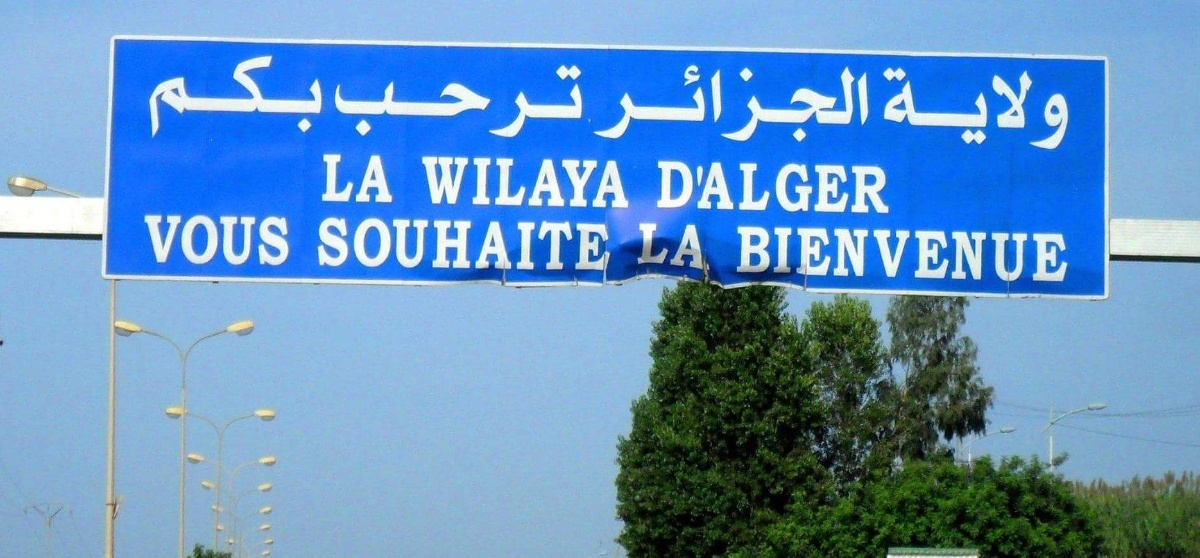text: (897, 65, 912, 151), (913, 65, 928, 151), (929, 65, 944, 151), (945, 65, 960, 151), (961, 65, 976, 151), (977, 65, 992, 151), (993, 65, 1008, 151), (1009, 65, 1024, 151), (1025, 65, 1040, 151), (1041, 65, 1056, 151), (161, 54, 176, 139), (177, 54, 192, 139), (193, 54, 208, 139), (209, 54, 224, 139), (225, 54, 240, 139), (241, 54, 256, 139), (257, 54, 272, 139), (273, 54, 288, 139), (289, 54, 304, 139), (305, 54, 320, 139), (882, 65, 896, 151), (593, 67, 608, 144), (609, 67, 624, 144), (625, 67, 640, 144), (641, 67, 656, 144), (657, 67, 672, 144), (673, 67, 688, 144), (689, 67, 704, 144), (705, 67, 720, 144), (721, 67, 736, 144), (737, 67, 752, 144), (753, 67, 768, 144), (769, 67, 784, 144), (785, 67, 800, 144), (801, 67, 816, 144), (817, 67, 832, 144), (833, 67, 848, 144), (849, 67, 864, 144), (337, 64, 352, 139), (353, 64, 368, 139), (369, 64, 384, 139), (385, 64, 400, 139), (401, 64, 416, 139), (417, 64, 432, 139), (433, 64, 448, 139), (449, 64, 464, 139), (465, 64, 480, 139), (481, 64, 496, 139), (497, 64, 512, 139), (513, 64, 528, 139), (529, 64, 544, 139), (545, 64, 560, 139), (561, 64, 576, 139), (1057, 65, 1070, 151), (149, 54, 160, 139), (737, 227, 752, 285), (753, 227, 768, 285), (769, 227, 784, 285), (785, 227, 800, 285), (801, 227, 816, 285), (817, 227, 832, 285), (833, 227, 848, 285), (849, 227, 864, 285), (865, 227, 880, 285), (881, 227, 896, 285), (897, 227, 912, 285), (913, 227, 928, 285), (929, 227, 944, 285), (945, 227, 960, 285), (961, 227, 976, 285), (977, 227, 992, 285), (993, 227, 1008, 285), (1009, 227, 1024, 285), (1025, 227, 1040, 285), (1041, 227, 1056, 285), (321, 218, 336, 275), (337, 218, 352, 275), (353, 218, 368, 275), (369, 218, 384, 275), (385, 218, 400, 275), (401, 218, 416, 275), (417, 218, 432, 275), (433, 218, 448, 275), (449, 218, 464, 275), (465, 218, 480, 275), (481, 218, 496, 275), (497, 218, 512, 275), (513, 218, 528, 275), (529, 218, 544, 275), (545, 218, 560, 275), (561, 218, 576, 275), (577, 218, 592, 275), (593, 218, 608, 275), (657, 160, 672, 216), (673, 160, 688, 216), (689, 160, 704, 216), (705, 160, 720, 216), (721, 160, 736, 216), (737, 160, 752, 216), (753, 160, 768, 216), (769, 160, 784, 216), (785, 160, 800, 216), (801, 160, 816, 216), (817, 160, 832, 216), (833, 160, 848, 216), (849, 160, 864, 216), (865, 160, 880, 216), (433, 156, 448, 210), (449, 156, 464, 210), (465, 156, 480, 210), (481, 156, 496, 210), (497, 156, 512, 210), (513, 156, 528, 210), (529, 156, 544, 210), (545, 156, 560, 210), (561, 156, 576, 210), (577, 156, 592, 210), (593, 156, 608, 210), (609, 156, 624, 210), (337, 154, 352, 205), (353, 154, 368, 205), (369, 154, 384, 205), (145, 215, 160, 266), (161, 215, 176, 266), (177, 215, 192, 266), (193, 215, 208, 266), (209, 215, 224, 266), (225, 215, 240, 266), (241, 215, 256, 266), (257, 215, 272, 266), (273, 215, 288, 266), (641, 223, 656, 272), (657, 223, 672, 272), (673, 223, 688, 272), (689, 223, 704, 272), (322, 154, 336, 205), (1057, 227, 1068, 285), (881, 160, 891, 216), (422, 156, 432, 210), (577, 64, 584, 139), (385, 154, 395, 205), (705, 223, 712, 272), (865, 67, 869, 144), (625, 156, 630, 210), (289, 215, 294, 266), (609, 218, 613, 275), (317, 218, 320, 275), (321, 54, 323, 139), (334, 64, 336, 139), (735, 227, 736, 285), (639, 223, 640, 272)
